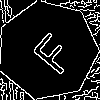F: (23, 25, 79, 78)
